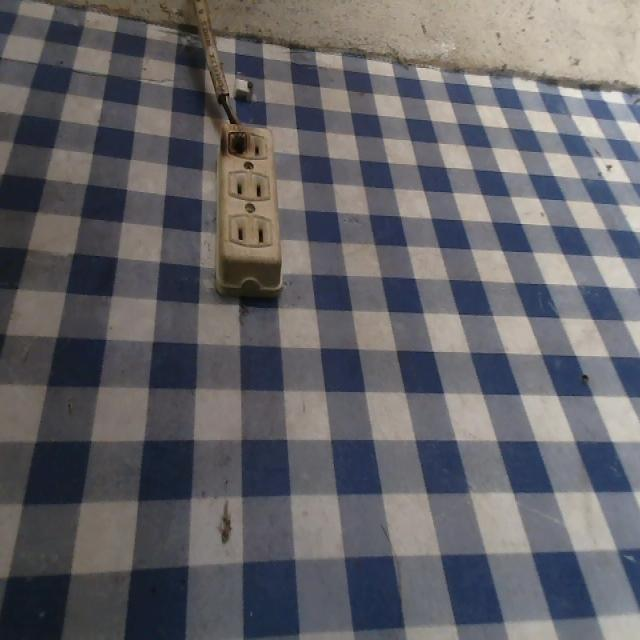-: (222, 120, 250, 164)
